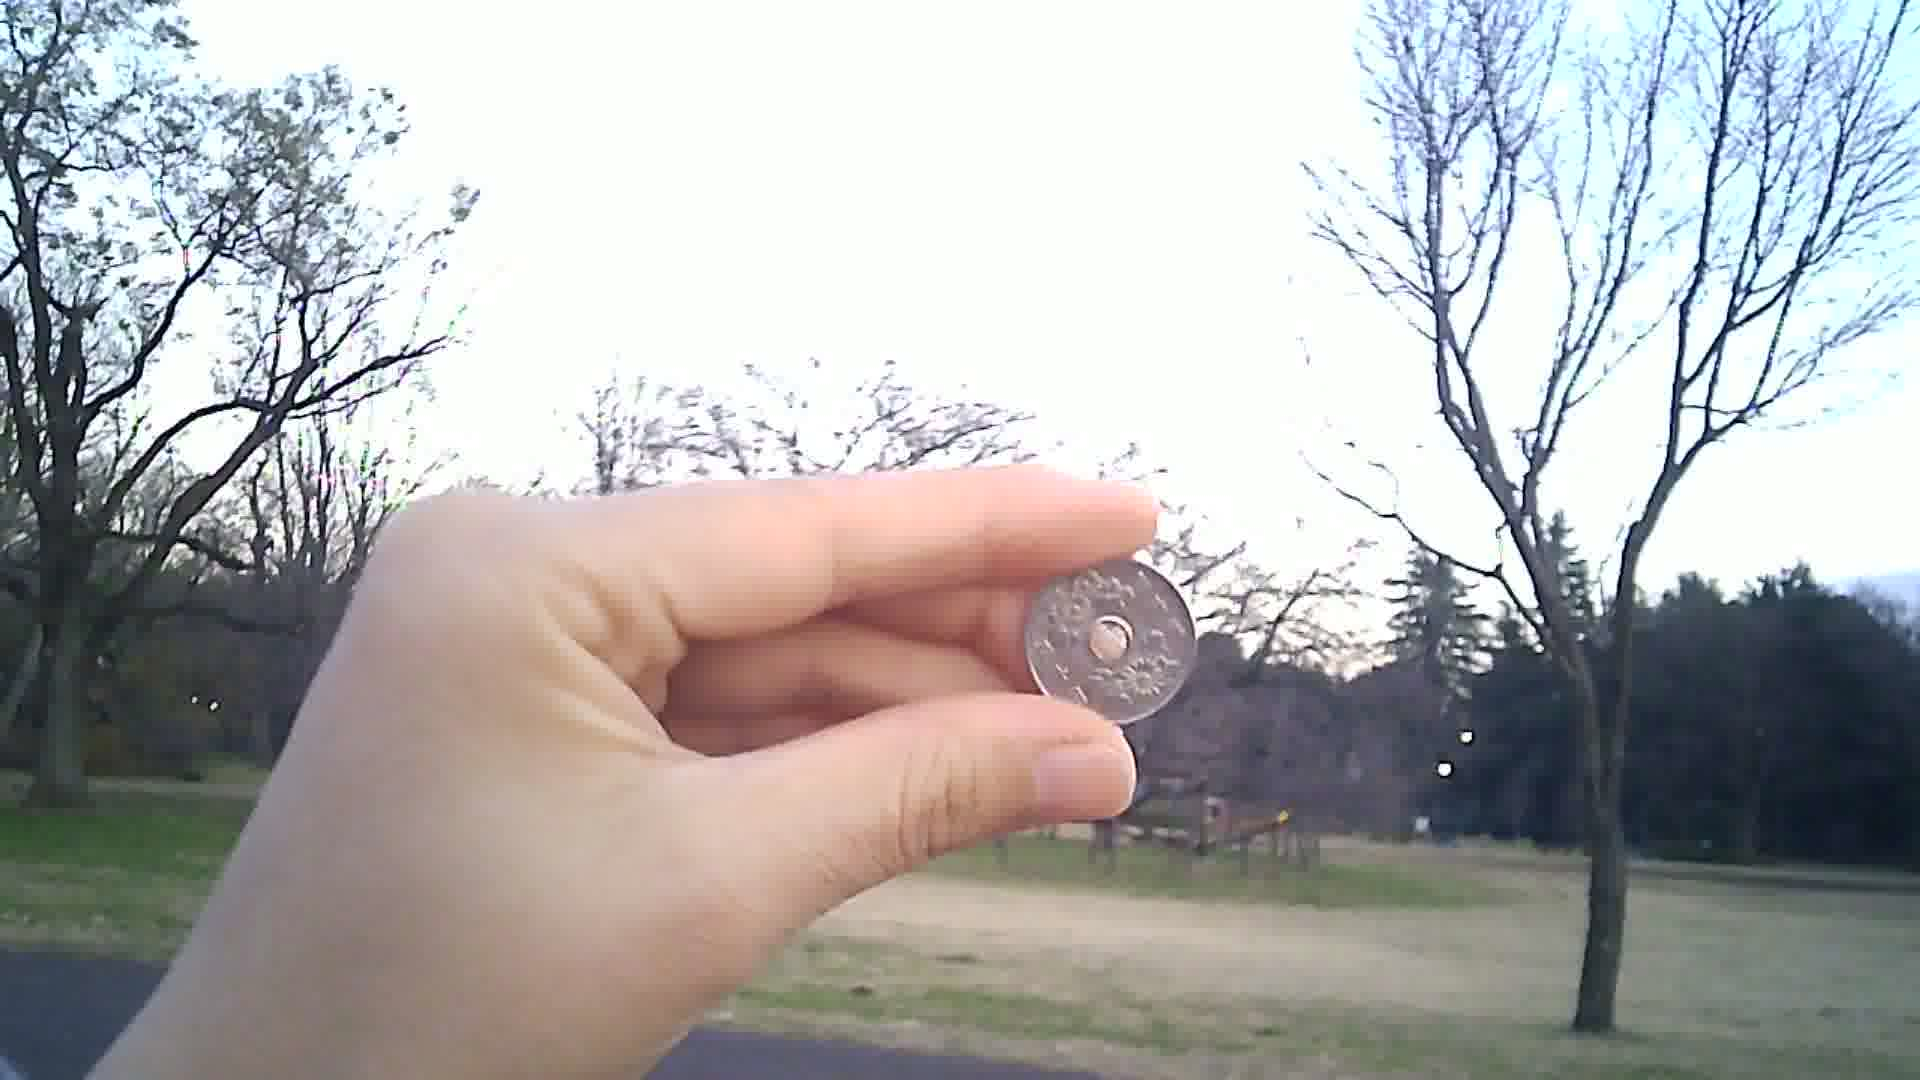50 Yen: (1023, 554, 1201, 725)
